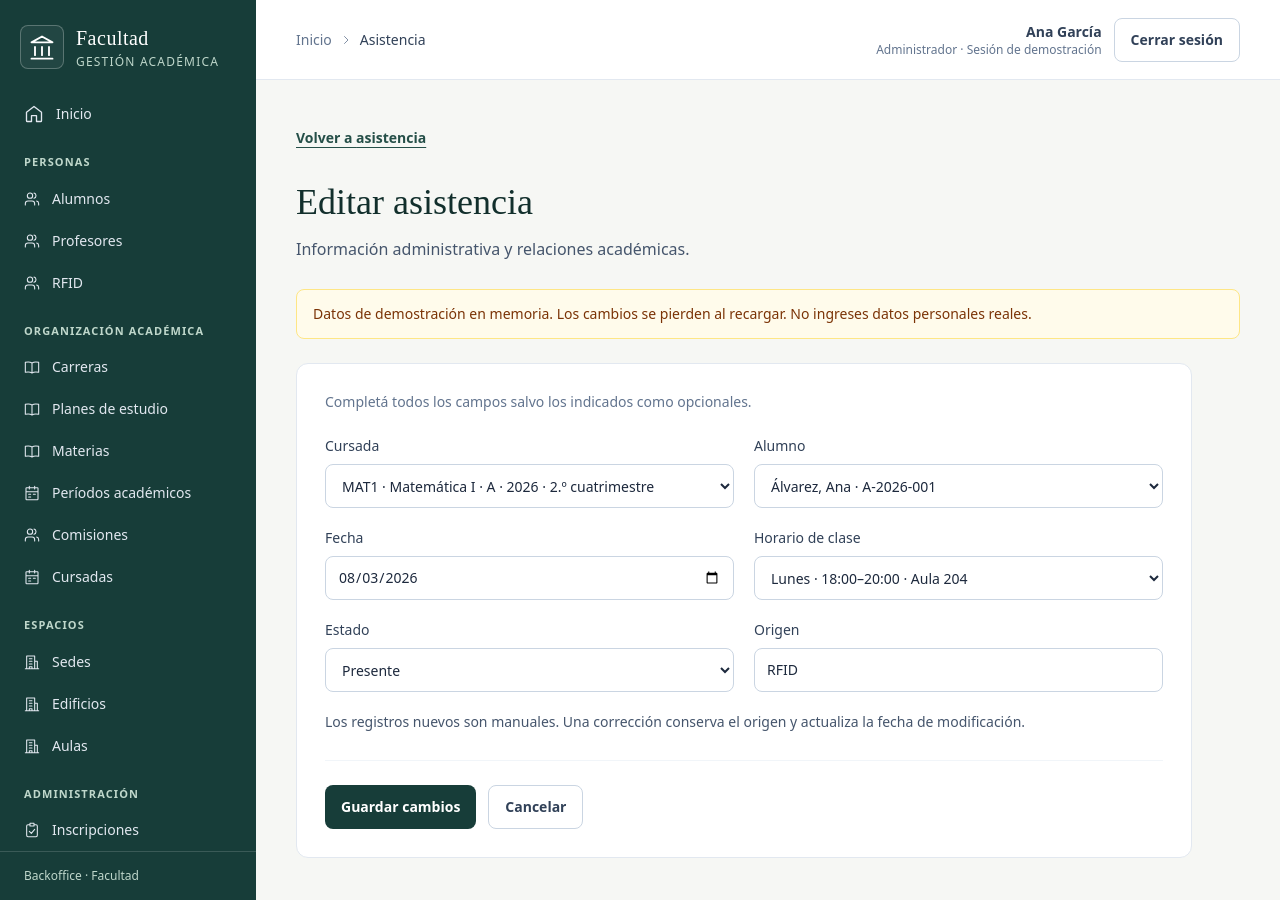
Test case: Flujos de gestión académica › corrige un registro RFID conservando origen y maneja un error de guardado
Check: the field labelled "Origen" holds "RFID", box [754,648,1163,692]
Select "Justificado" in the dropdown labelled "Estado" at (530, 670), box [325,648,734,692]
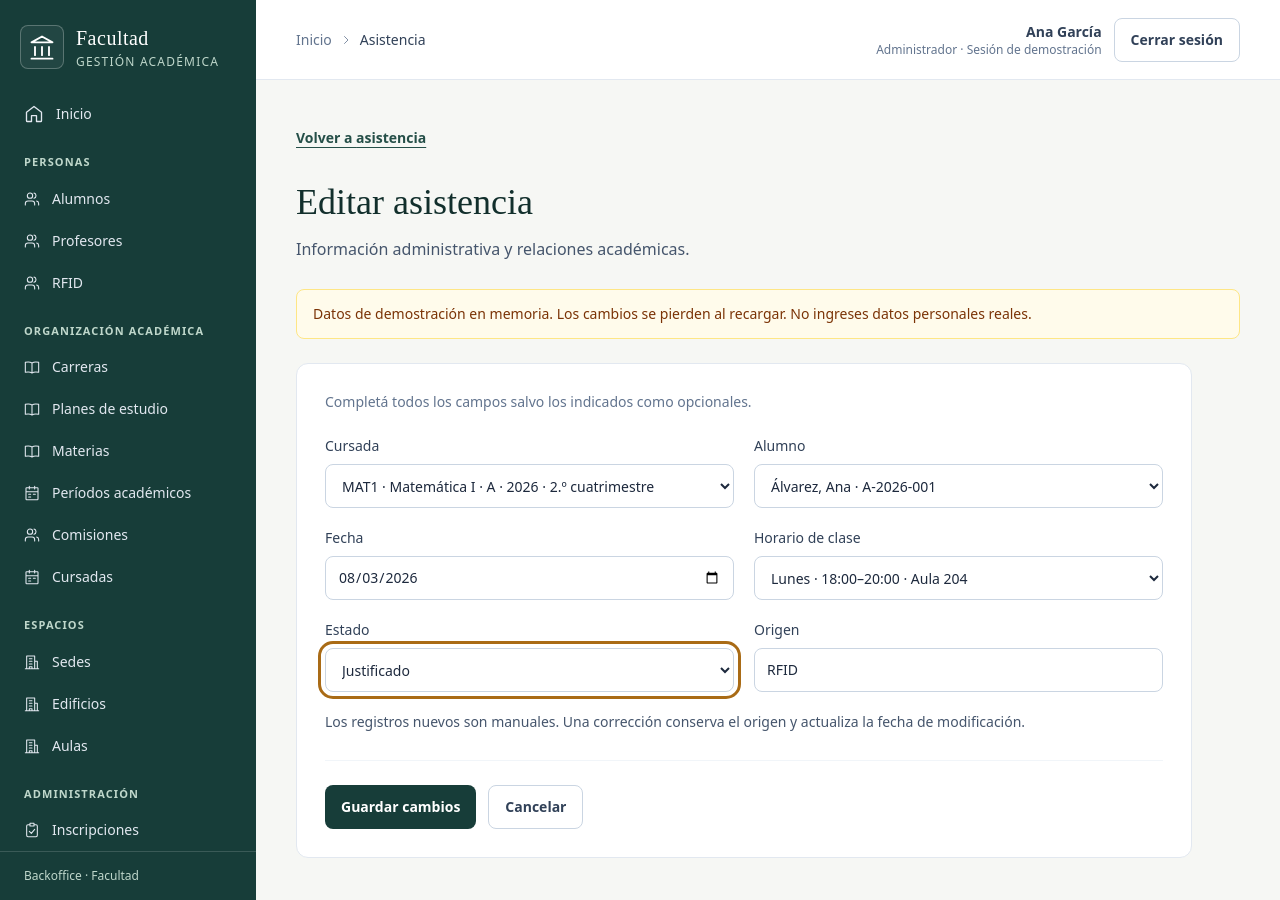
Click the button "Guardar cambios" at (401, 807), box [325,785,476,829]
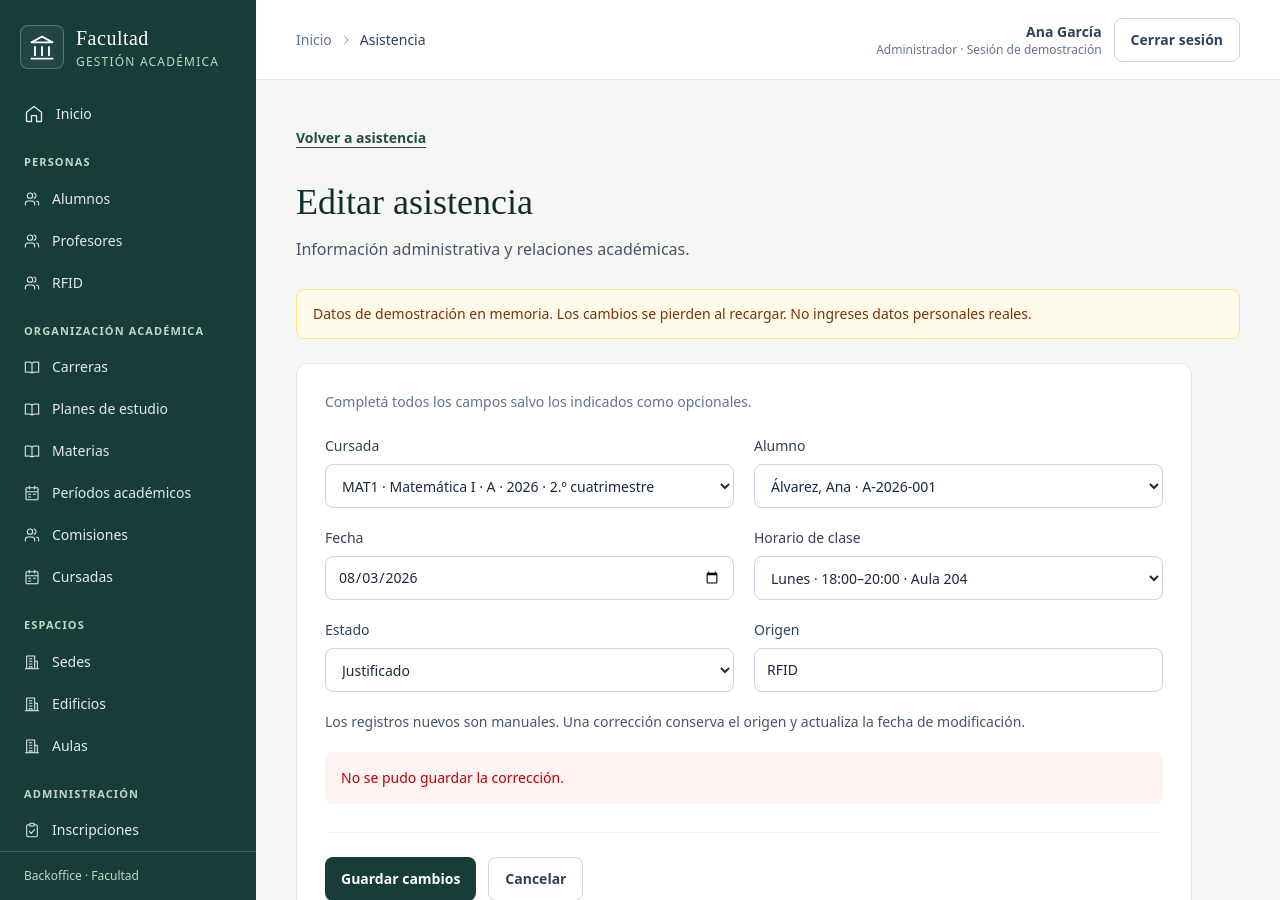
Check: the message shows "guardar la corrección", box [341,768,564,787]
Click the button "Guardar cambios" at (401, 879), box [325,857,476,899]
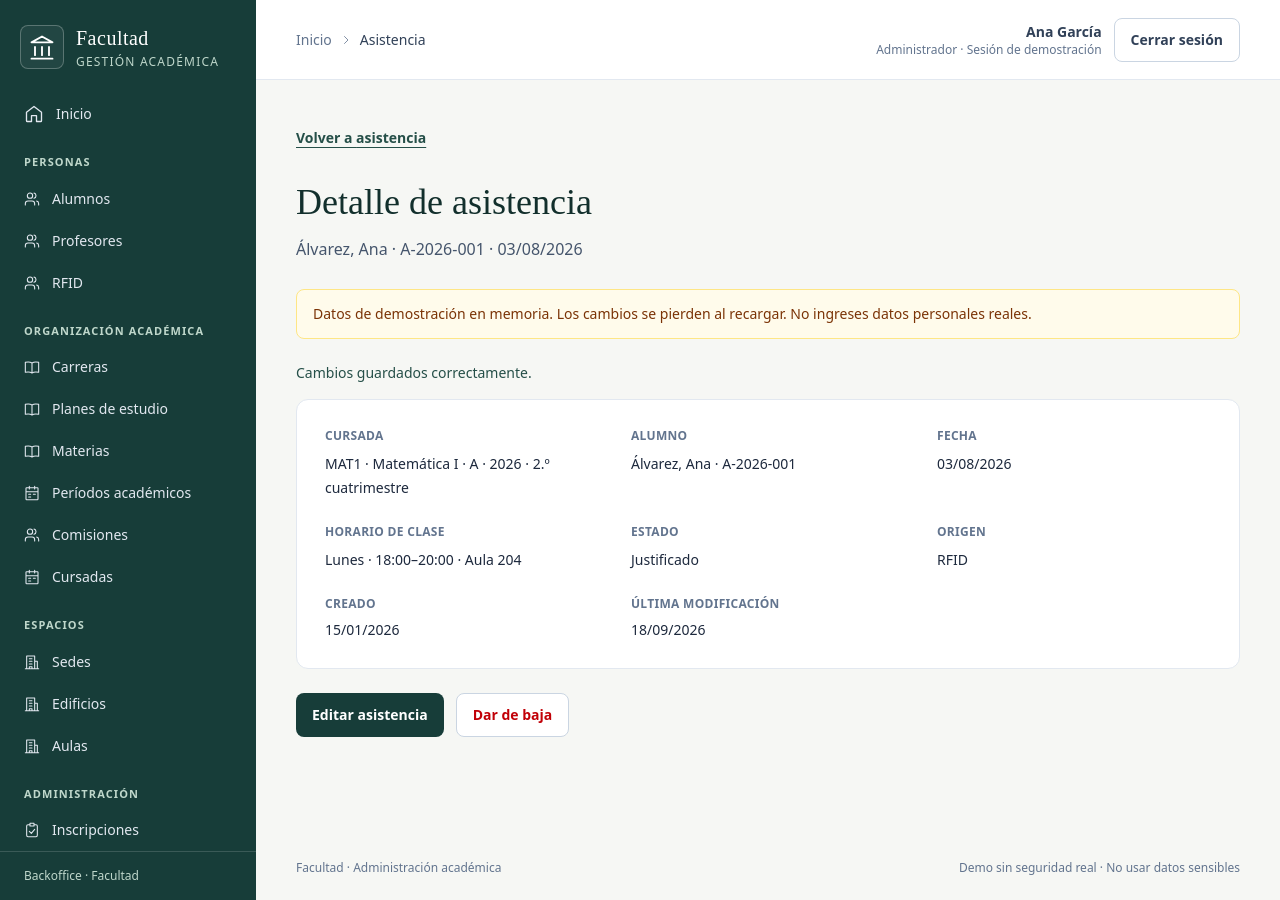
Check: the heading "Detalle de asistencia" is shown, box [296,182,592,222]
Check: the text "Justificado" is shown, box [631,550,699,569]
